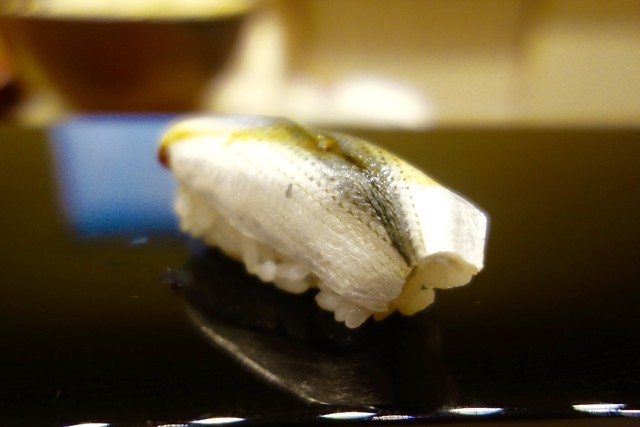spotted-shad: (155, 115, 495, 329)
